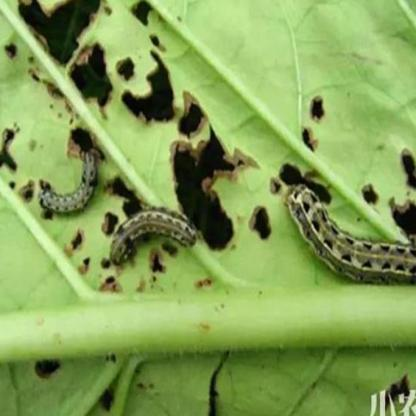armyworm: (283, 178, 416, 286), (109, 202, 198, 272), (34, 144, 102, 218)
